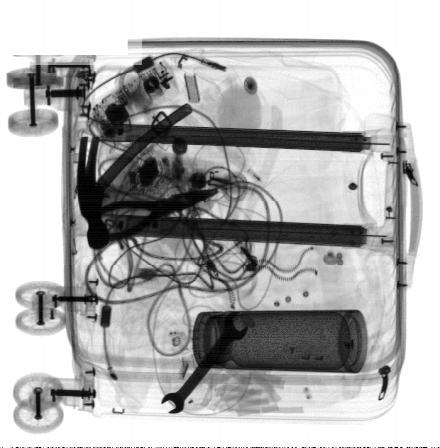Hammer: (75, 100, 197, 250)
Pliers: (95, 186, 220, 243)
Wrench: (162, 309, 249, 415)
